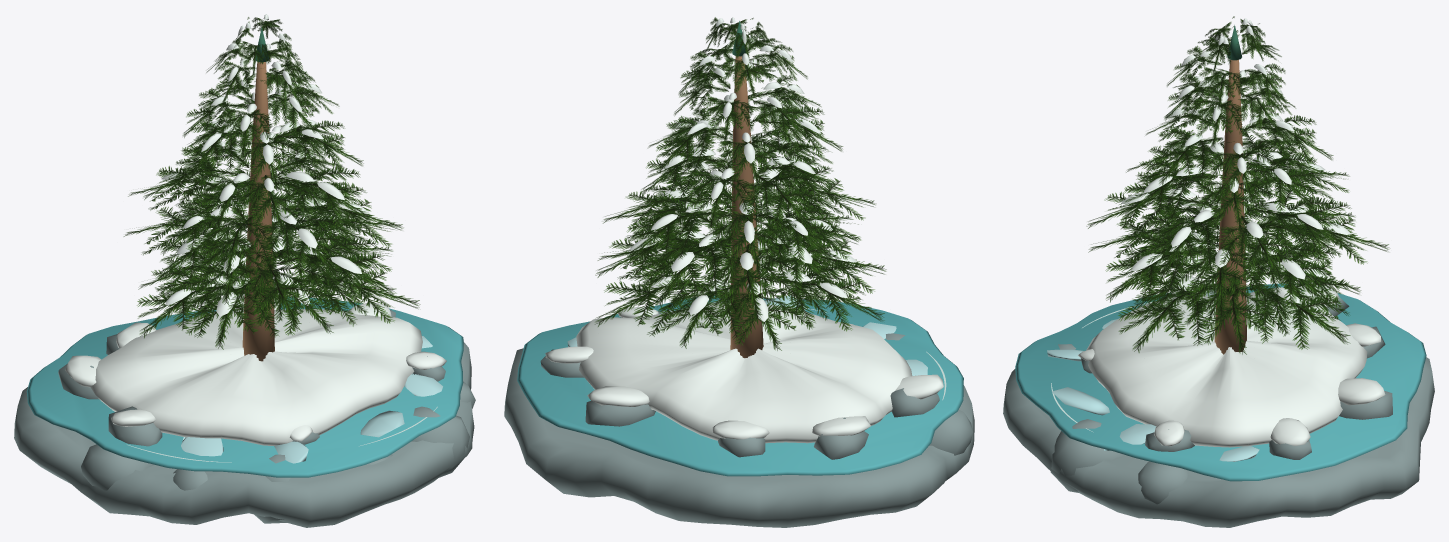
Rendered from snowy-island-v8.glb.
The picture shows the model from 3 angles, left to right: view 1: azimuth 30°, elevation 25°; view 2: azimuth 150°, elevation 25°; view 3: azimuth 270°, elevation 25°; orthographic projection. The views are drawn at different scales.
Visible parts, largest first — view 1: Snowy | Pine | twig atlas, Snowy | Snow | soft, Snowy | Rock | blue grey, Snowy | Sea | icy turquoise, Snowy | Pine | bark, Snowy | Ice | pale blue; view 2: Snowy | Pine | twig atlas, Snowy | Snow | soft, Snowy | Rock | blue grey, Snowy | Sea | icy turquoise, Snowy | Pine | bark, Snowy | Ice | pale blue; view 3: Snowy | Pine | twig atlas, Snowy | Snow | soft, Snowy | Rock | blue grey, Snowy | Sea | icy turquoise, Snowy | Pine | bark, Snowy | Ice | pale blue.
Part boxes in pixels (left/top/right/bottom): Snowy | Pine | twig atlas: left=123, top=17, right=420, bottom=349; Snowy | Snow | soft: left=65, top=14, right=446, bottom=445; Snowy | Rock | blue grey: left=14, top=309, right=475, bottom=527; Snowy | Sea | icy turquoise: left=26, top=296, right=463, bottom=477; Snowy | Pine | bark: left=242, top=61, right=274, bottom=361; Snowy | Ice | pale blue: left=181, top=336, right=442, bottom=463; Snowy | Pine | twig atlas: left=595, top=17, right=886, bottom=350; Snowy | Snow | soft: left=545, top=17, right=943, bottom=443; Snowy | Rock | blue grey: left=504, top=298, right=974, bottom=527; Snowy | Sea | icy turquoise: left=517, top=296, right=963, bottom=476; Snowy | Pine | bark: left=730, top=56, right=763, bottom=358; Snowy | Ice | pale blue: left=567, top=295, right=927, bottom=375; Snowy | Pine | twig atlas: left=1086, top=16, right=1388, bottom=354; Snowy | Snow | soft: left=1078, top=18, right=1385, bottom=447; Snowy | Rock | blue grey: left=1003, top=289, right=1434, bottom=527; Snowy | Sea | icy turquoise: left=1015, top=283, right=1426, bottom=481; Snowy | Pine | bark: left=1214, top=59, right=1246, bottom=354; Snowy | Ice | pale blue: left=1047, top=319, right=1259, bottom=461.
Bounding box in the file's own units: 1.64 × 1.6 × 1.44.
Materials: 8 (1 with a texture image).
